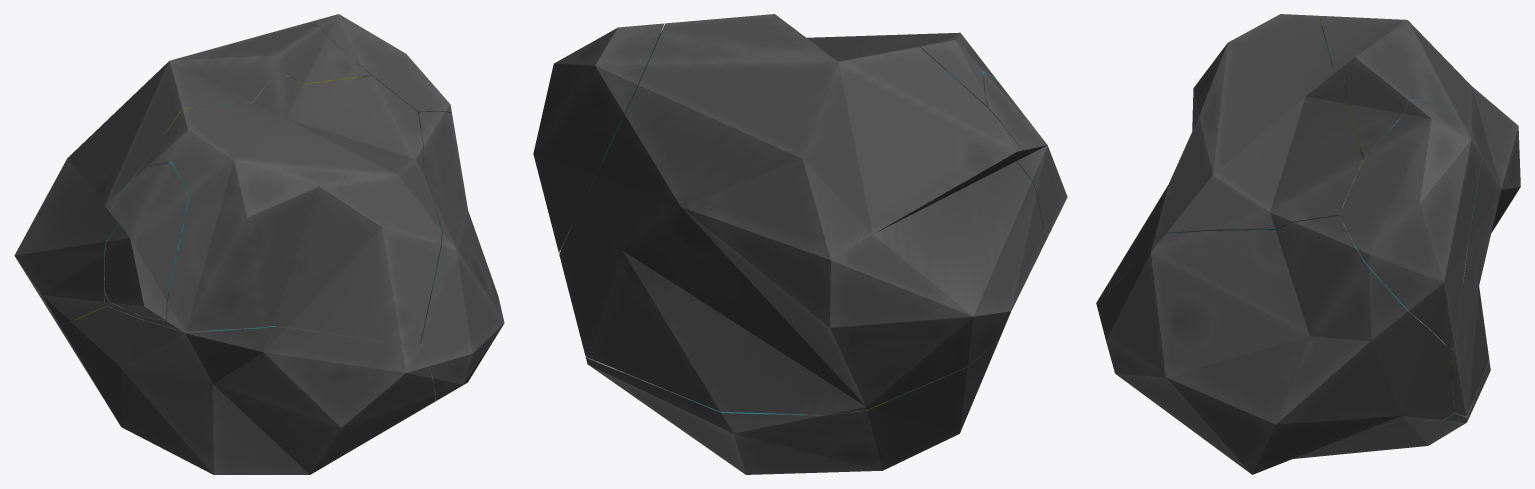
File: bronzeFract2.fbx
3 views of the same model, side by side, from view 1: azimuth 30°, elevation 25°; view 2: azimuth 150°, elevation 25°; view 3: azimuth 270°, elevation 25° (orthographic). The views are drawn at different scales.
Visible parts, largest first — view 1: BronzeAster_cell.003, BronzeAster_cell.001, BronzeAster_cell.006, BronzeAster_cell.005, BronzeAster_cell.004, BronzeAster_cell.002; view 2: BronzeAster_cell.006, BronzeAster_cell.001, BronzeAster_cell.002, BronzeAster_cell.004, BronzeAster_cell.003; view 3: BronzeAster_cell.005, BronzeAster_cell.003, BronzeAster_cell.002, BronzeAster_cell.006, BronzeAster_cell.001.
Boxes of the visible parts, <box> form: BronzeAster_cell.003: <box>105,71,441,344</box>; BronzeAster_cell.001: <box>60,306,435,474</box>; BronzeAster_cell.006: <box>14,23,371,328</box>; BronzeAster_cell.005: <box>418,111,504,407</box>; BronzeAster_cell.004: <box>104,163,188,320</box>; BronzeAster_cell.002: <box>306,14,451,113</box>; BronzeAster_cell.006: <box>559,14,1045,414</box>; BronzeAster_cell.001: <box>585,340,998,474</box>; BronzeAster_cell.002: <box>533,23,664,252</box>; BronzeAster_cell.004: <box>984,72,1067,233</box>; BronzeAster_cell.003: <box>806,32,1048,240</box>; BronzeAster_cell.005: <box>1099,215,1453,474</box>; BronzeAster_cell.003: <box>1109,14,1362,291</box>; BronzeAster_cell.002: <box>1339,100,1481,348</box>; BronzeAster_cell.006: <box>1319,16,1520,416</box>; BronzeAster_cell.001: <box>1096,280,1490,458</box>.
Bounding box in the file's own units: 147 × 136 × 126.
Materials: 1 (1 with a texture image).
